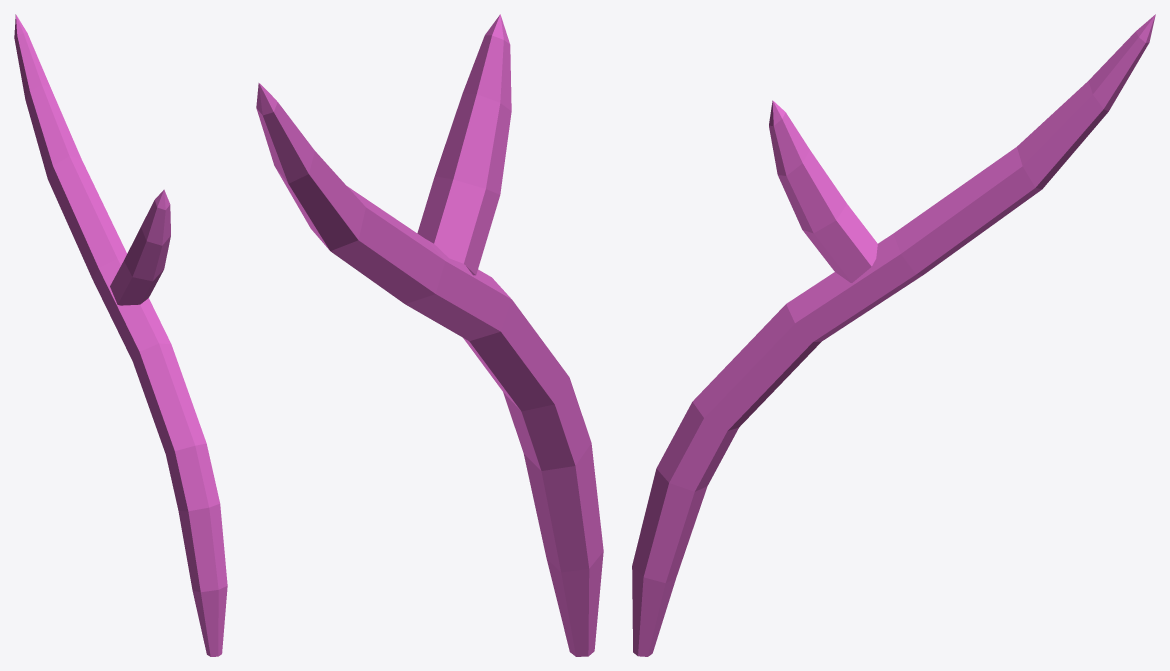
File: Coral_stick.fbx
3 views of the same model, side by side, from view 1: azimuth 30°, elevation 25°; view 2: azimuth 150°, elevation 25°; view 3: azimuth 270°, elevation 25° (orthographic). The views are drawn at different scales.
Parts seen in each view (by area): view 1: Coral_stick; view 2: Coral_stick; view 3: Coral_stick.
Boxes of the visible parts, <box> form: Coral_stick: <box>14,14,227,656</box>; Coral_stick: <box>256,14,603,656</box>; Coral_stick: <box>632,14,1155,656</box>.
Size of the model in its own units: 2.91 by 43.27 by 32.11.
